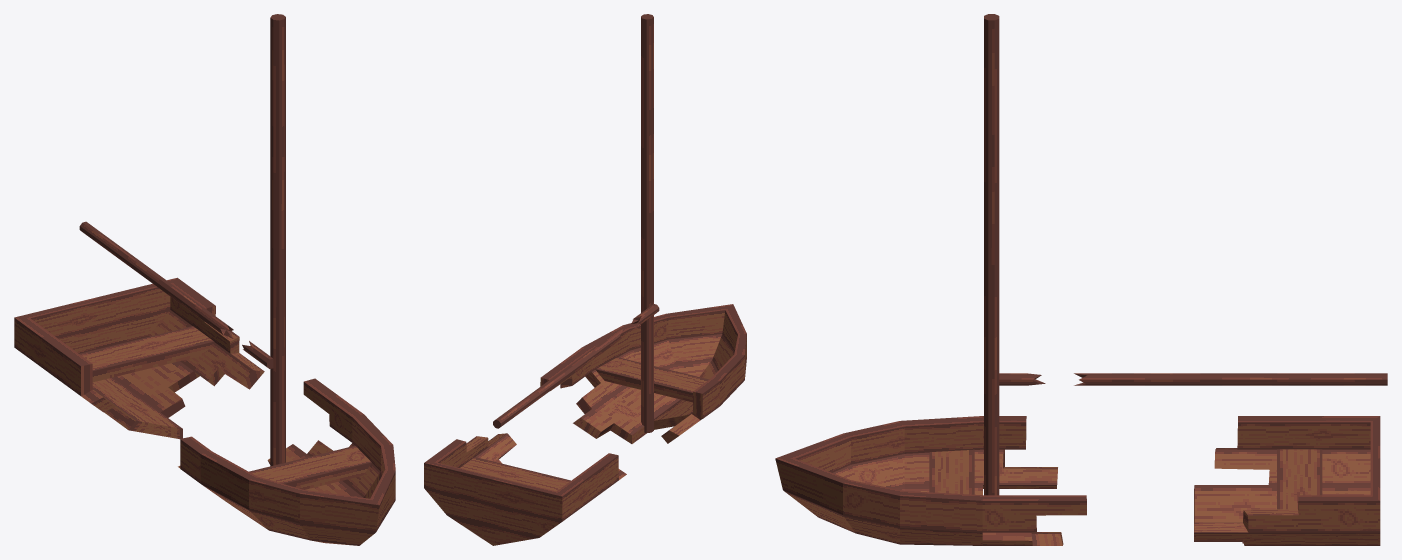
File: the broke ass BOAT.fbx
3 views of the same model, side by side, from view 1: azimuth 30°, elevation 25°; view 2: azimuth 150°, elevation 25°; view 3: azimuth 270°, elevation 25° (orthographic). The views are drawn at different scales.
Visible parts, largest first — view 1: Broken Boat 1, Broken Boat 2, Broken Mast 1, Broken Mast 2; view 2: Broken Boat 2, Broken Boat 1, Broken Mast 1, Broken Mast 2; view 3: Broken Boat 2, Broken Boat 1, Broken Mast 1, Broken Mast 2.
Boxes of the visible parts, x1,y1,x2,y2 form: Broken Boat 1: (14, 277, 264, 439); Broken Boat 2: (178, 378, 395, 545); Broken Mast 1: (242, 14, 285, 466); Broken Mast 2: (79, 221, 233, 338); Broken Boat 2: (540, 304, 746, 443); Broken Boat 1: (424, 433, 626, 545); Broken Mast 1: (631, 14, 659, 433); Broken Mast 2: (493, 329, 622, 428); Broken Boat 2: (775, 416, 1086, 545); Broken Boat 1: (1194, 416, 1380, 545); Broken Mast 1: (984, 14, 1045, 495); Broken Mast 2: (1074, 373, 1387, 385).
Size of the model in its own units: 2 by 5.76 by 6.1.
